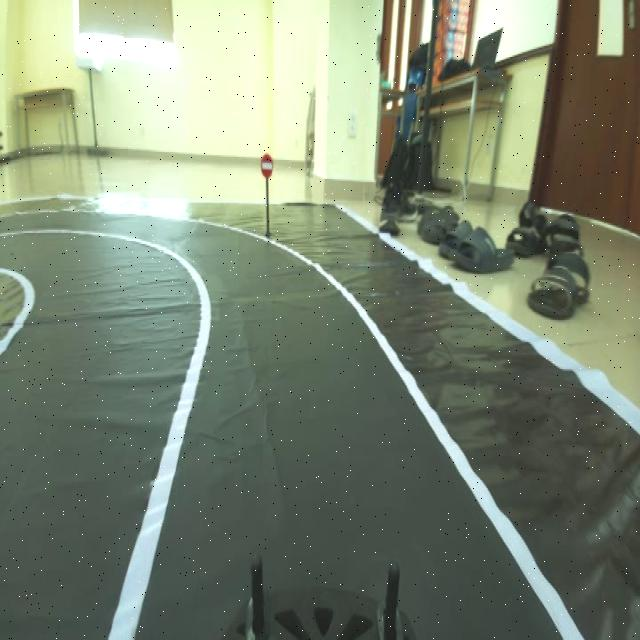no_entry: (258, 148, 277, 178)
